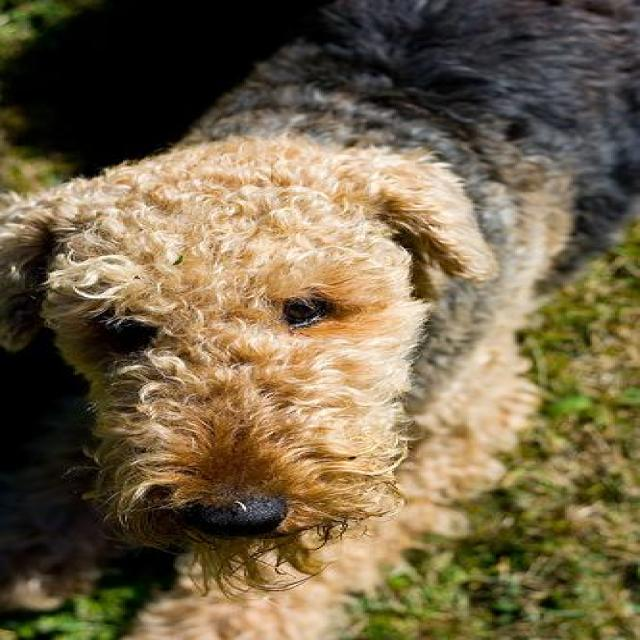airedale: (0, 0, 636, 637)
